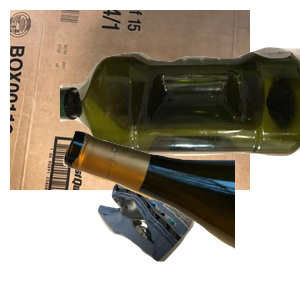cardboard: (10, 10, 250, 190)
glass: (60, 128, 300, 300)
plastic: (60, 44, 300, 195)
trash: (95, 157, 282, 300)
